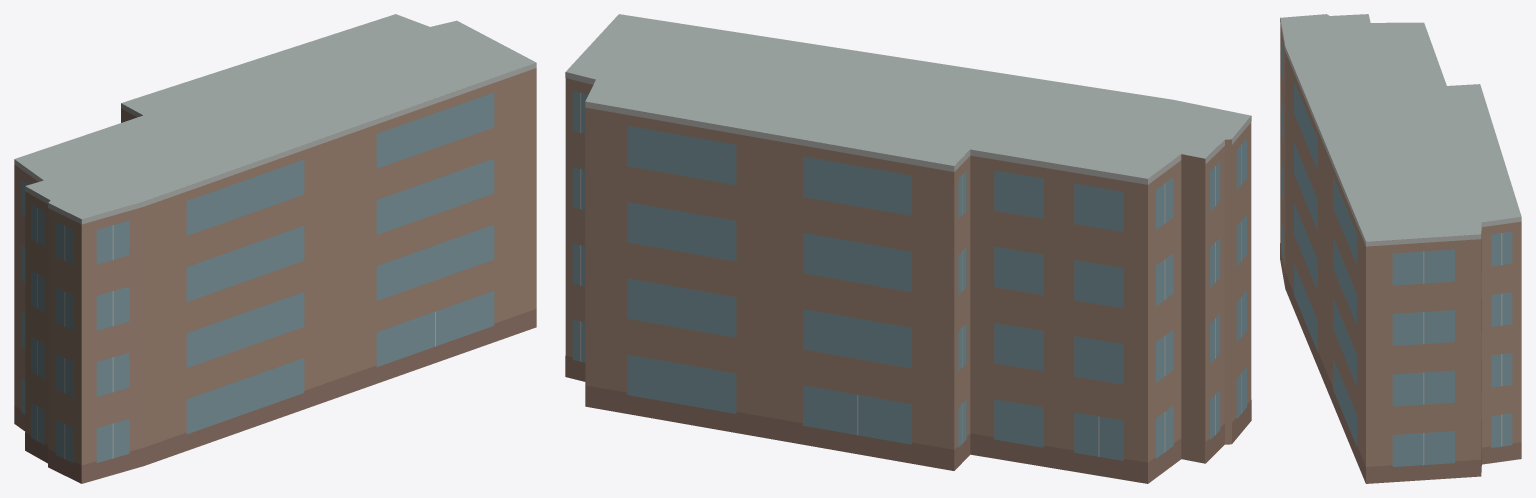
File: survey-upis-33022623.glb
The picture shows the model from 3 angles, left to right: view 1: azimuth 30°, elevation 25°; view 2: azimuth 150°, elevation 25°; view 3: azimuth 270°, elevation 25°; orthographic projection. The views are drawn at different scales.
Parts seen in each view (by area): view 1: survey-upis-33022623.tmp; view 2: survey-upis-33022623.tmp; view 3: survey-upis-33022623.tmp.
Part boxes in pixels (left/top/right/bottom): survey-upis-33022623.tmp: left=14, top=14, right=536, bottom=483; survey-upis-33022623.tmp: left=565, top=14, right=1251, bottom=483; survey-upis-33022623.tmp: left=1280, top=14, right=1521, bottom=483.
Size of the model in its own units: 25.03 by 12.4 by 11.22.
